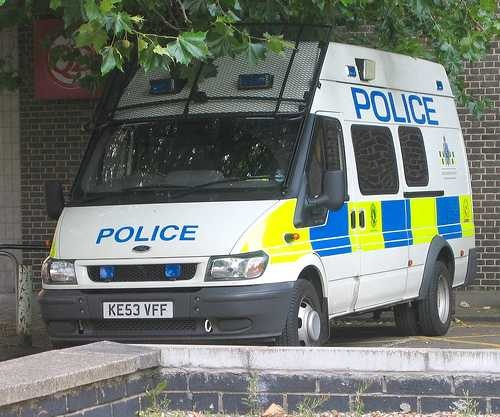Police Van: (74, 23, 466, 340)
